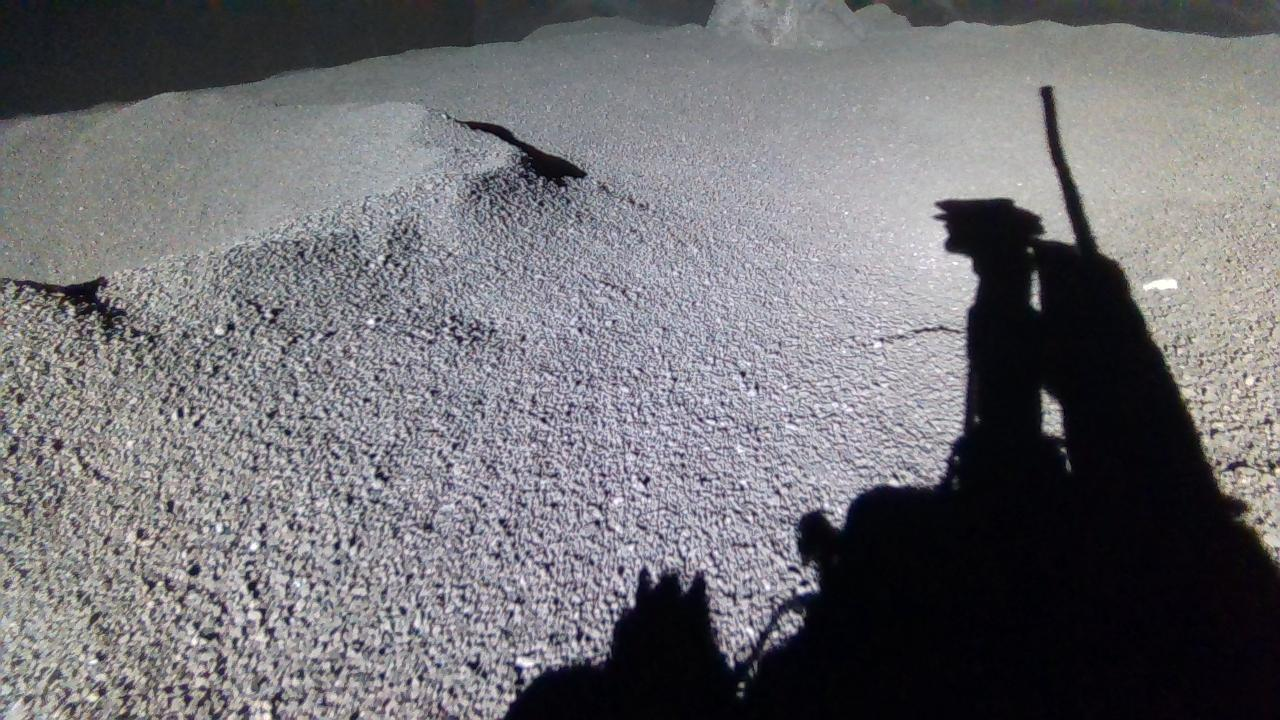rock: (708, 0, 868, 46)
